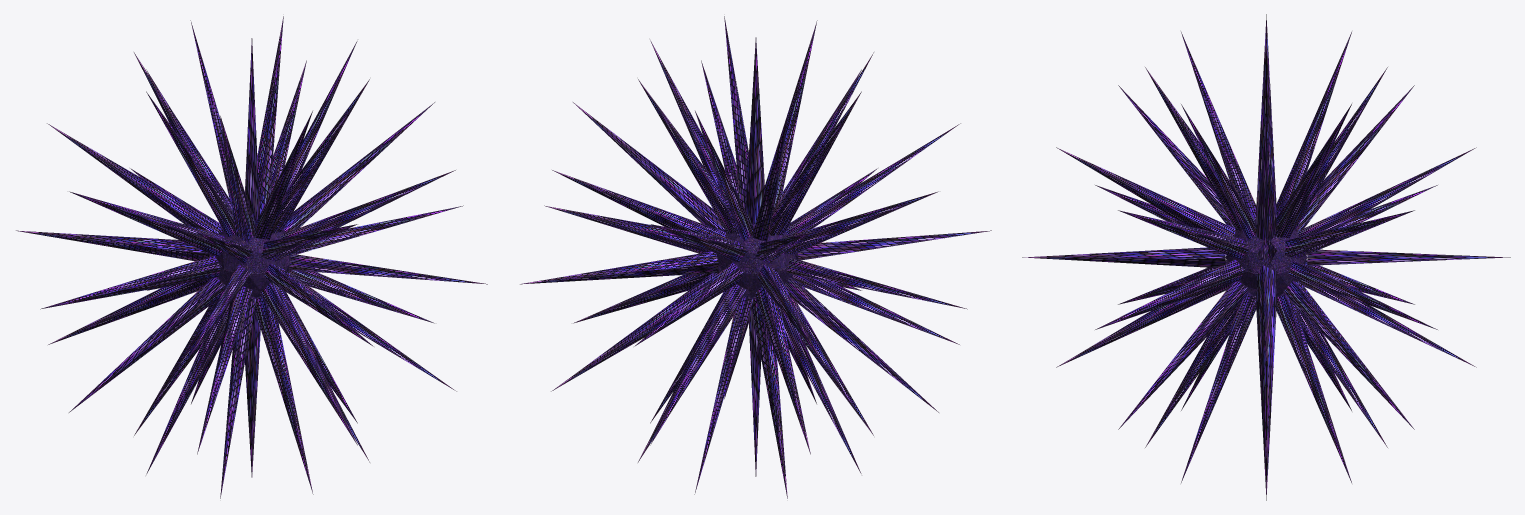
The model's file is ErizoParacentrotusLividus.fbx.
3 renders of one model, left to right at view 1: azimuth 30°, elevation 25°; view 2: azimuth 150°, elevation 25°; view 3: azimuth 270°, elevation 25°, orthographic.
Visible parts, largest first — view 1: Cone.006, Cone.004, Cone.007, Cone.005, Icosphere.001; view 2: Cone.005, Cone.006, Cone.007, Cone.004, Icosphere.001; view 3: Cone.007, Cone.004, Cone.005, Cone.006, Icosphere.001.
Boxes of the visible parts, <box> form: Cone.006: <box>40,41,463,474</box>; Cone.004: <box>16,52,487,462</box>; Cone.007: <box>130,20,373,494</box>; Cone.005: <box>189,16,306,498</box>; Icosphere.001: <box>212,230,290,297</box>; Cone.005: <box>520,52,991,462</box>; Cone.006: <box>544,40,967,473</box>; Cone.007: <box>634,20,877,494</box>; Cone.004: <box>701,16,818,498</box>; Icosphere.001: <box>716,224,795,297</box>; Cone.007: <box>1022,36,1510,447</box>; Cone.004: <box>1095,32,1437,482</box>; Cone.005: <box>1095,32,1437,482</box>; Cone.006: <box>1256,14,1276,500</box>; Icosphere.001: <box>1225,218,1307,296</box>.
Bounding box in the file's own units: 480 × 480 × 480.
1 material, 1 textured.
